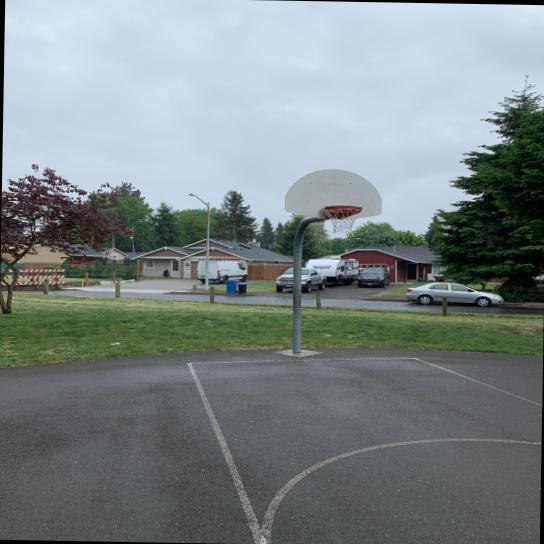basketball-hoop: (322, 204, 363, 234)
